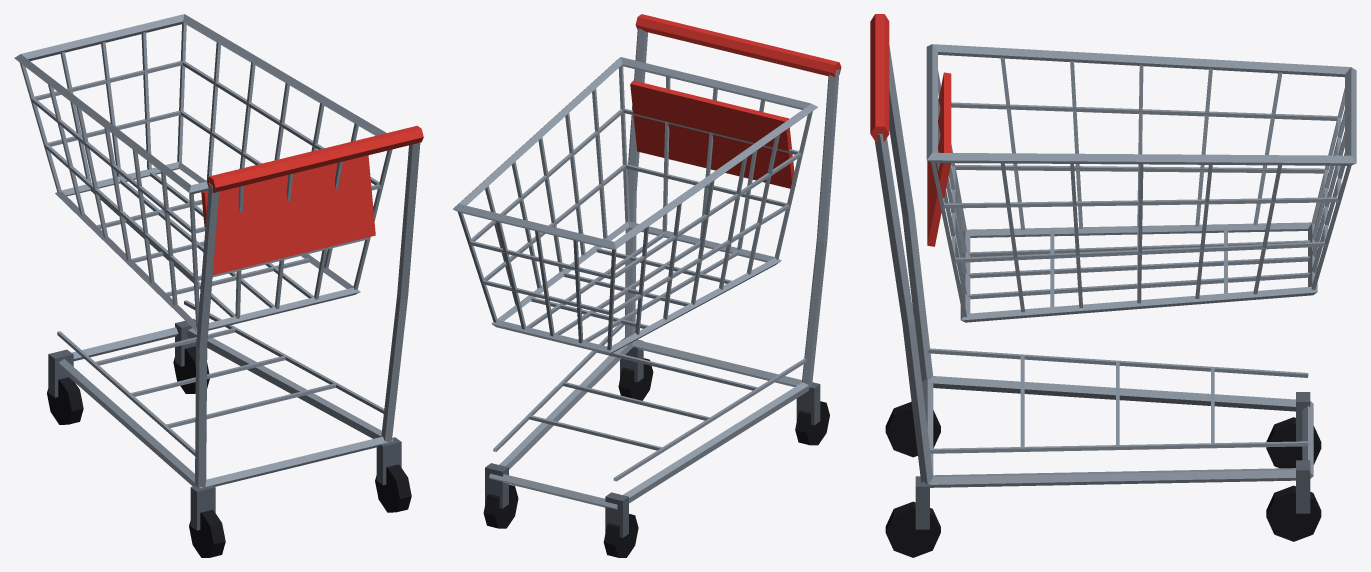
Rendered from shopping_cart.glb.
3 renders of one model, left to right at view 1: azimuth 30°, elevation 25°; view 2: azimuth 150°, elevation 25°; view 3: azimuth 270°, elevation 25°, orthographic. The views are drawn at different scales.
Visible parts, largest first — view 1: shopping_cart; view 2: shopping_cart; view 3: shopping_cart.
Boxes of the visible parts, x1,y1,x2,y2 form: shopping_cart: (14, 14, 423, 557); shopping_cart: (453, 14, 841, 557); shopping_cart: (870, 14, 1356, 557).
Size of the model in its own units: 0.5667 by 1.01 by 1.02.
